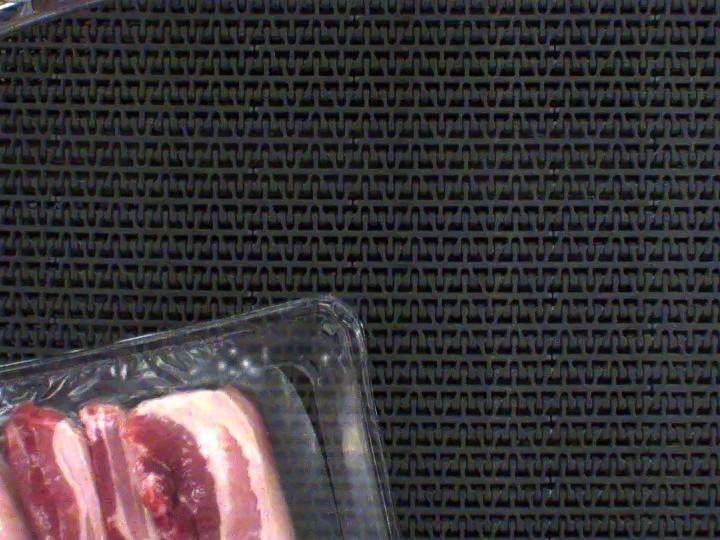unsealed: (0, 332, 365, 540)
